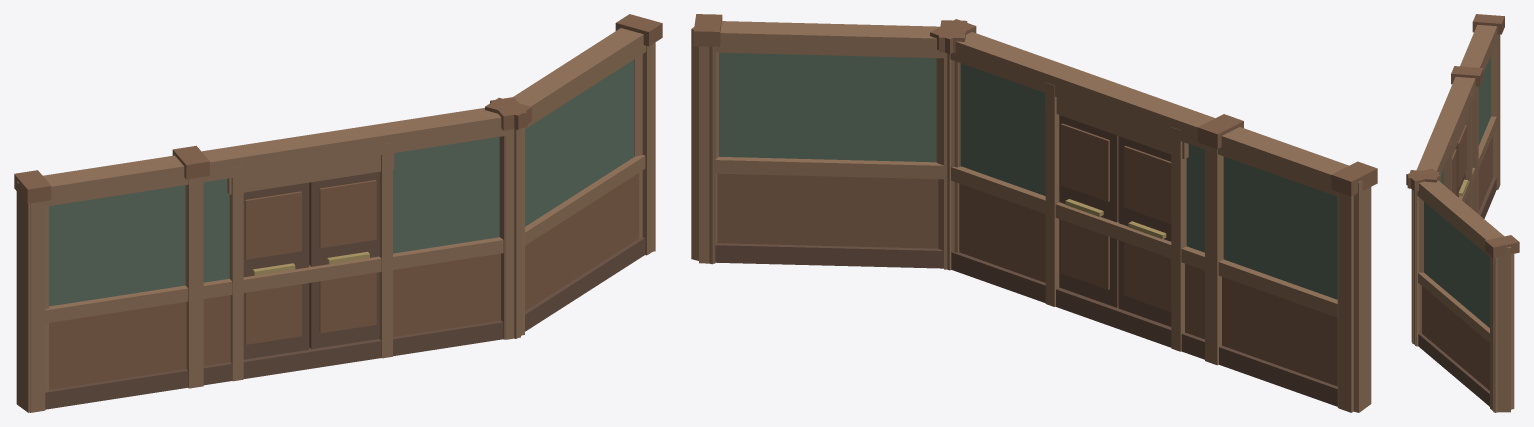
Rendered from GPT_Fourth_Wall.glb.
3 views of the same model, side by side, from view 1: azimuth 30°, elevation 25°; view 2: azimuth 150°, elevation 25°; view 3: azimuth 270°, elevation 25° (orthographic). The views are drawn at different scales.
Parts seen in each view (by area): view 1: long_plaster0, long_top_beam, long_wainscot0, short_plaster, long_plaster1, long_bottom_rail, short_wainscot, long_wainscot1, long_chair_rail, short_top_beam, long_door1, long_post1 (+21 smaller); view 2: short_plaster, short_wainscot, long_plaster0, long_top_beam, long_wainscot0, long_plaster1, long_bottom_rail, short_top_beam, long_chair_rail, long_wainscot1, short_bottom_rail, corner_0 (+21 smaller); view 3: short_plaster, long_top_beam, short_wainscot, corner_2, short_top_beam, short_post1, short_bottom_rail, short_chair_rail, short_post0, corner_1, long_post1, long_plaster0 (+17 smaller).
Part boxes in pixels (left/top/right/bottom): long_plaster0: left=49, top=178, right=229, bottom=306; long_top_beam: left=43, top=108, right=505, bottom=206; long_wainscot0: left=49, top=295, right=230, bottom=389; short_plaster: left=525, top=59, right=634, bottom=226; long_plaster1: left=393, top=137, right=499, bottom=253; long_bottom_rail: left=45, top=320, right=503, bottom=409; short_wainscot: left=525, top=173, right=639, bottom=310; long_wainscot1: left=393, top=253, right=500, bottom=336; long_chair_rail: left=45, top=237, right=503, bottom=323; short_top_beam: left=513, top=28, right=646, bottom=128; long_door1: left=309, top=172, right=379, bottom=349; long_post1: left=185, top=177, right=203, bottom=388; short_plaster: left=719, top=52, right=936, bottom=162; short_wainscot: left=717, top=173, right=938, bottom=248; long_plaster0: left=1186, top=144, right=1337, bottom=299; long_top_beam: left=950, top=32, right=1348, bottom=196; long_wainscot0: left=1185, top=263, right=1337, bottom=386; long_plaster1: left=960, top=63, right=1045, bottom=195; long_bottom_rail: left=951, top=252, right=1337, bottom=406; short_top_beam: left=715, top=21, right=943, bottom=58; long_chair_rail: left=951, top=166, right=1337, bottom=317; long_wainscot1: left=959, top=183, right=1045, bottom=282; short_bottom_rail: left=715, top=243, right=943, bottom=268; corner_0: left=1337, top=180, right=1371, bottom=412; short_plaster: left=1424, top=202, right=1489, bottom=327; long_top_beam: left=1416, top=24, right=1497, bottom=175; short_wainscot: left=1422, top=286, right=1489, bottom=390; corner_2: left=1493, top=247, right=1510, bottom=412; short_top_beam: left=1417, top=180, right=1503, bottom=256; short_post1: left=1490, top=254, right=1514, bottom=412; short_bottom_rail: left=1418, top=333, right=1489, bottom=406; short_chair_rail: left=1418, top=272, right=1489, bottom=342; short_post0: left=1411, top=189, right=1419, bottom=346; corner_1: left=1415, top=191, right=1423, bottom=345; long_post1: left=1472, top=86, right=1478, bottom=213; long_plaster0: left=1478, top=56, right=1490, bottom=145.
Size of the model in its own units: 1.03 by 0.346 by 0.2118.
